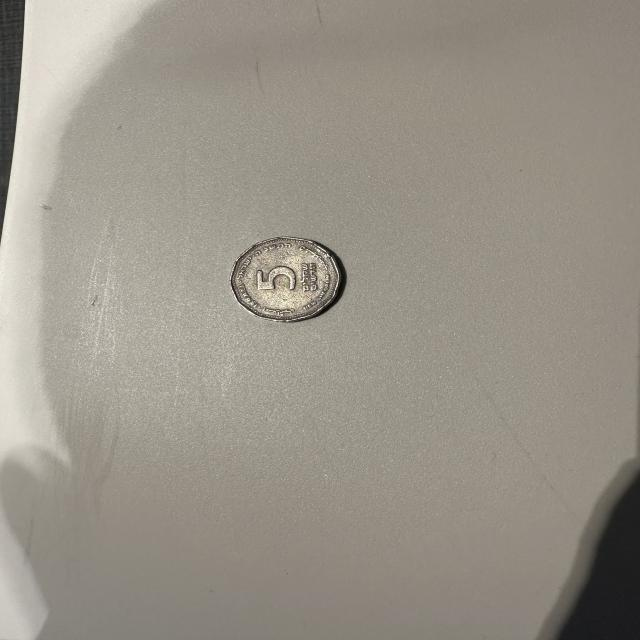5-shekel: (222, 232, 361, 329)
